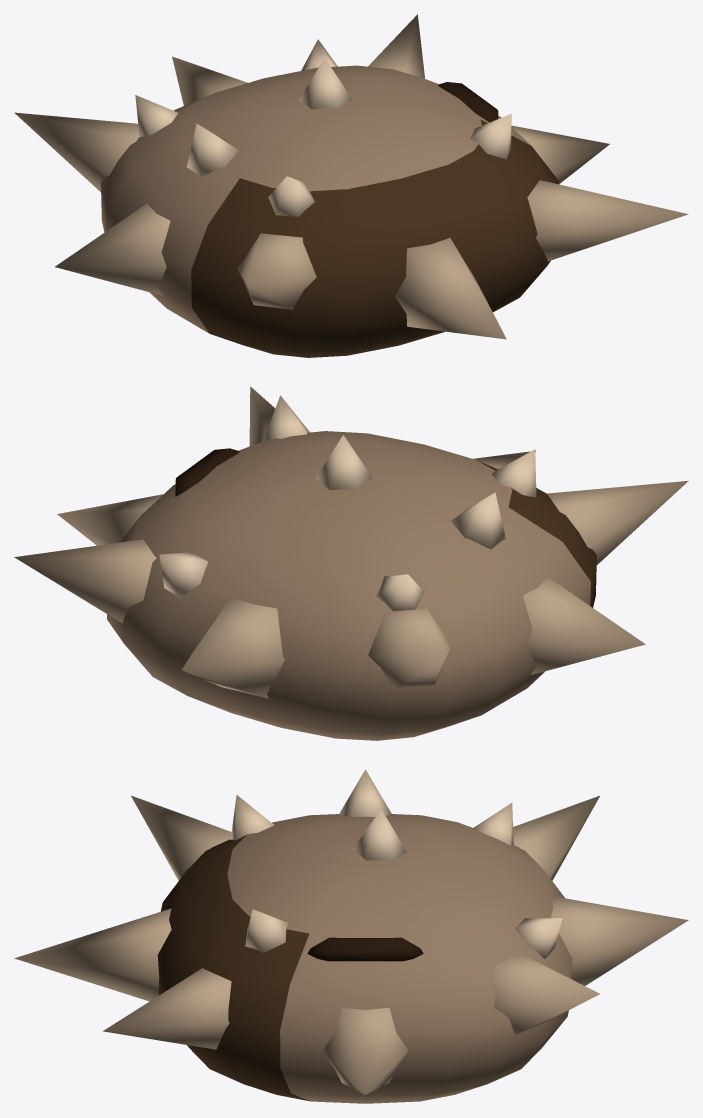
File: newshe-201-f2.glb
The picture shows the model from 3 angles, top to bottom: view 1: azimuth 30°, elevation 25°; view 2: azimuth 150°, elevation 25°; view 3: azimuth 270°, elevation 25°; orthographic projection. The views are drawn at different scales.
Parts seen in each view (by area): view 1: newshe-201-f2; view 2: newshe-201-f2; view 3: newshe-201-f2.
Part boxes in pixels (left/top/right/bottom): newshe-201-f2: left=14, top=14, right=688, bottom=357; newshe-201-f2: left=14, top=386, right=688, bottom=740; newshe-201-f2: left=14, top=769, right=688, bottom=1103.
Bounding box in the file's own units: 1.92 × 0.7691 × 2.
